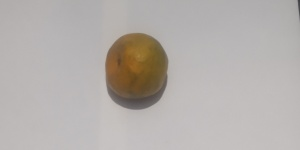BAD: (106, 30, 169, 100)
